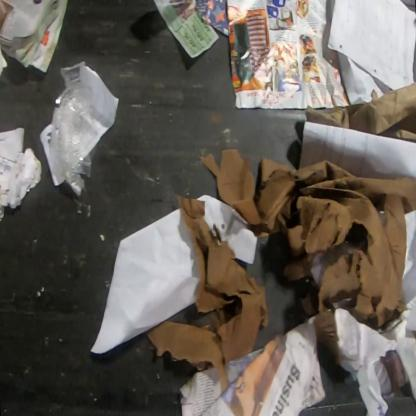cardboard: (198, 147, 415, 368), (144, 193, 270, 392)
rigid_plastic: (48, 60, 96, 198)
